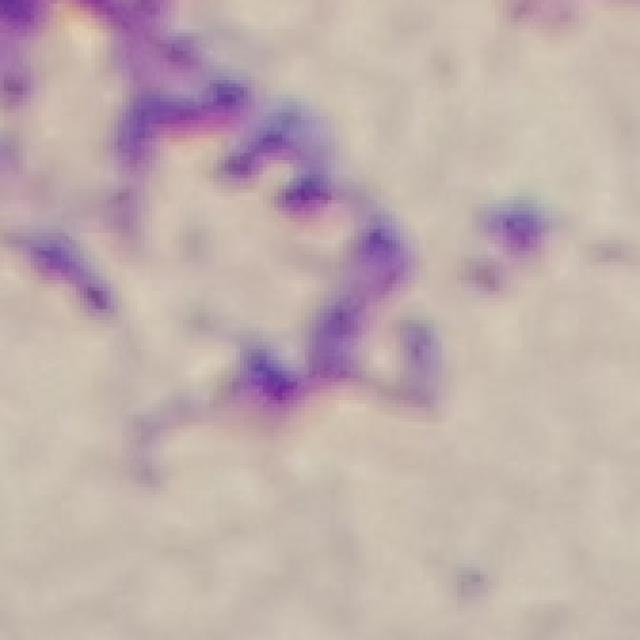non-sperm: (29, 71, 436, 419)
